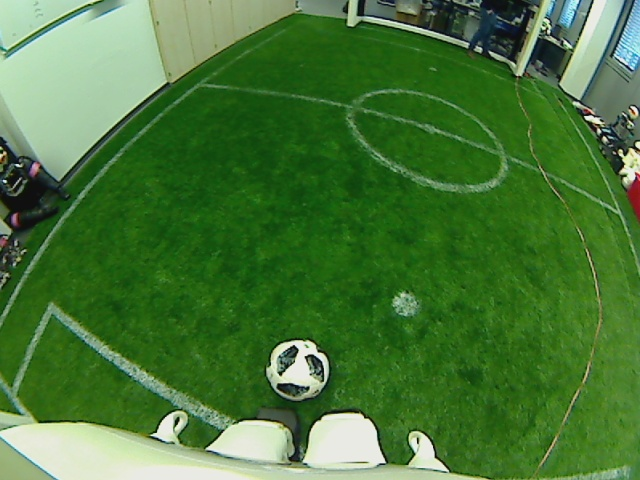ball: (266, 336, 330, 404)
